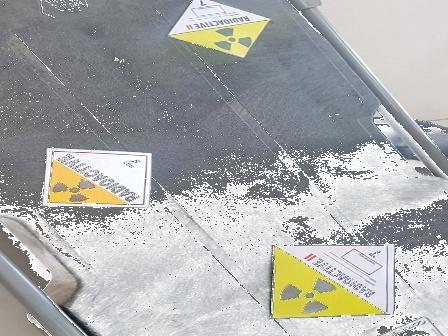radioactive: (272, 244, 391, 317), (43, 150, 153, 207), (166, 1, 278, 56)
